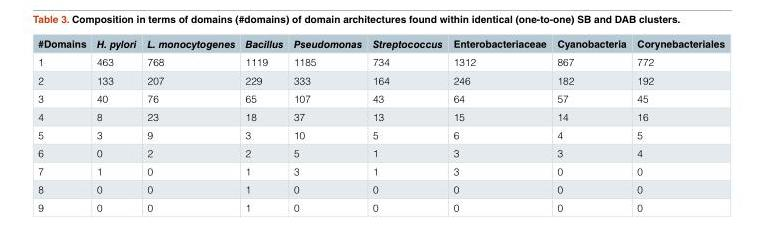table: (38, 37, 725, 213)
table column: (448, 37, 552, 213), (142, 37, 240, 213), (632, 37, 725, 213), (367, 37, 448, 213), (552, 37, 632, 213), (288, 37, 367, 213), (38, 37, 91, 213), (91, 37, 142, 213), (240, 37, 288, 213)
table column header: (38, 37, 725, 52)
table row: (38, 70, 725, 89), (38, 52, 725, 70), (38, 89, 725, 107), (38, 107, 725, 125), (38, 125, 725, 143), (38, 143, 725, 161), (38, 161, 725, 179), (38, 179, 725, 197), (38, 197, 725, 213), (38, 37, 725, 52)
